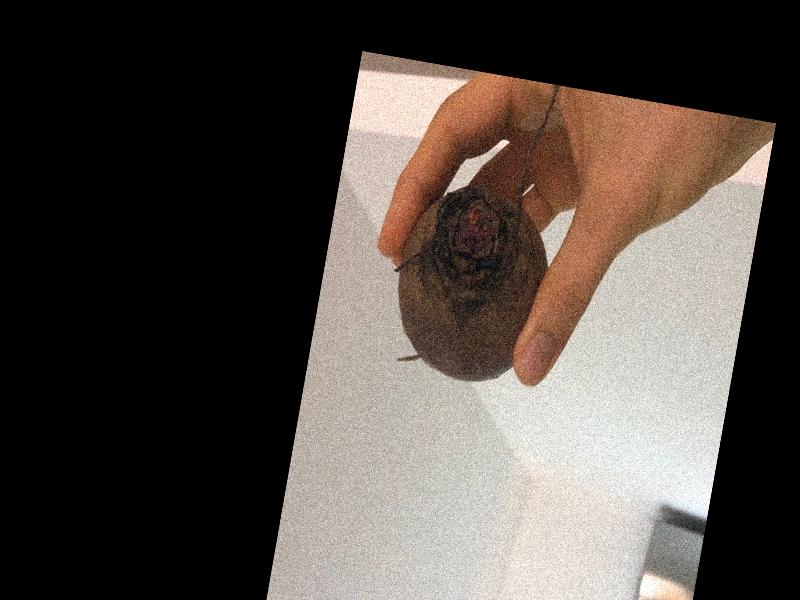Beet: (376, 64, 580, 393)
